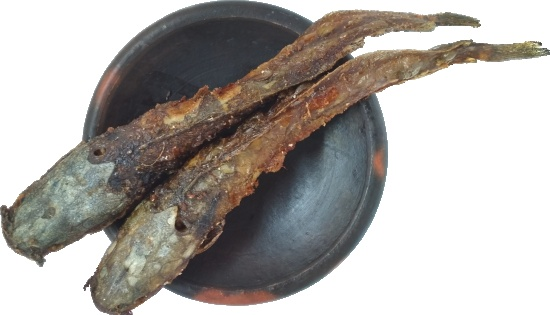pecel_lele: (83, 141, 281, 315), (2, 131, 229, 269)
